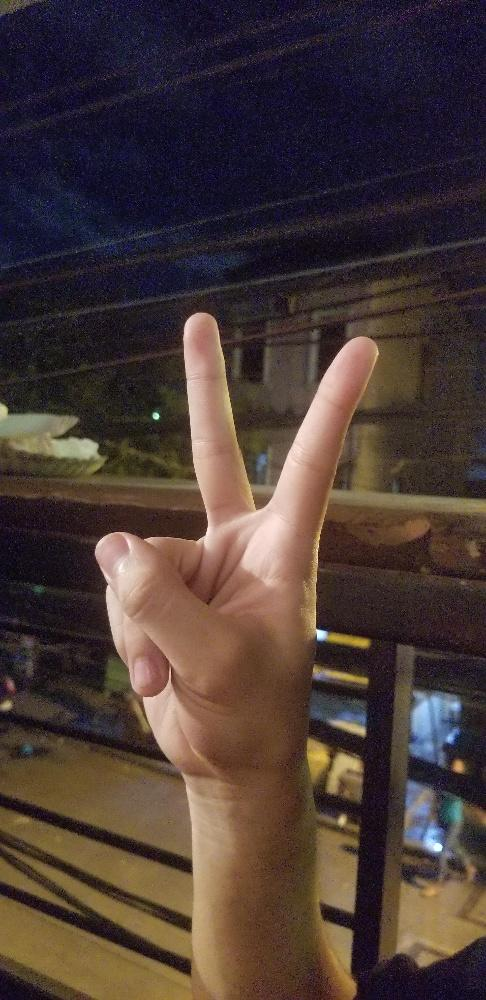v: (86, 308, 381, 786)
